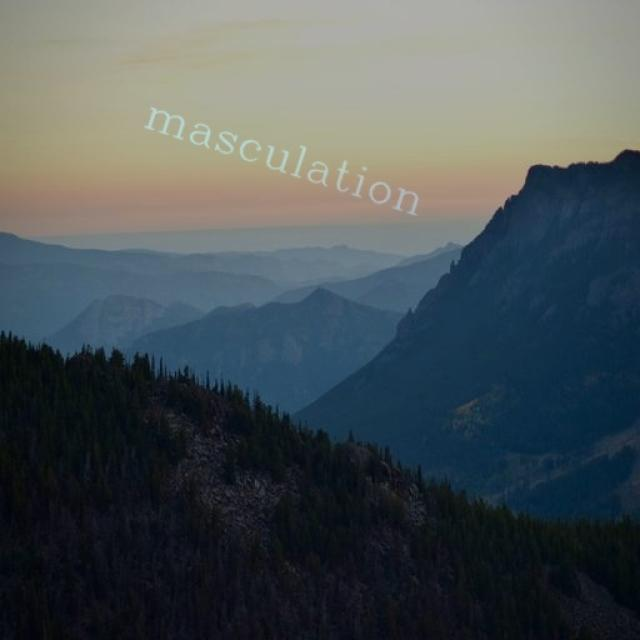watermark: (131, 94, 448, 223)
